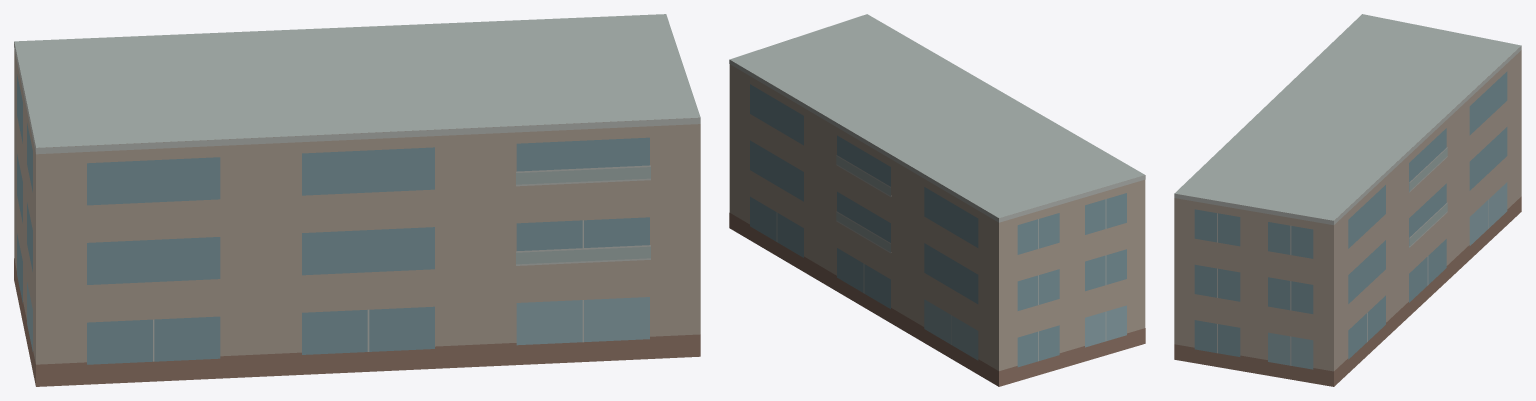
The model's file is survey-upis-32934817.glb.
The picture shows the model from 3 angles, left to right: view 1: azimuth 30°, elevation 25°; view 2: azimuth 150°, elevation 25°; view 3: azimuth 270°, elevation 25°; orthographic projection. The views are drawn at different scales.
Parts seen in each view (by area): view 1: survey-upis-32934817.tmp; view 2: survey-upis-32934817.tmp; view 3: survey-upis-32934817.tmp.
Part boxes in pixels (box(x1,y1,x2,y2)): survey-upis-32934817.tmp: box(14, 14, 700, 386); survey-upis-32934817.tmp: box(729, 14, 1145, 386); survey-upis-32934817.tmp: box(1174, 14, 1521, 386).
Size of the model in its own units: 24.44 by 9.15 by 17.35.
